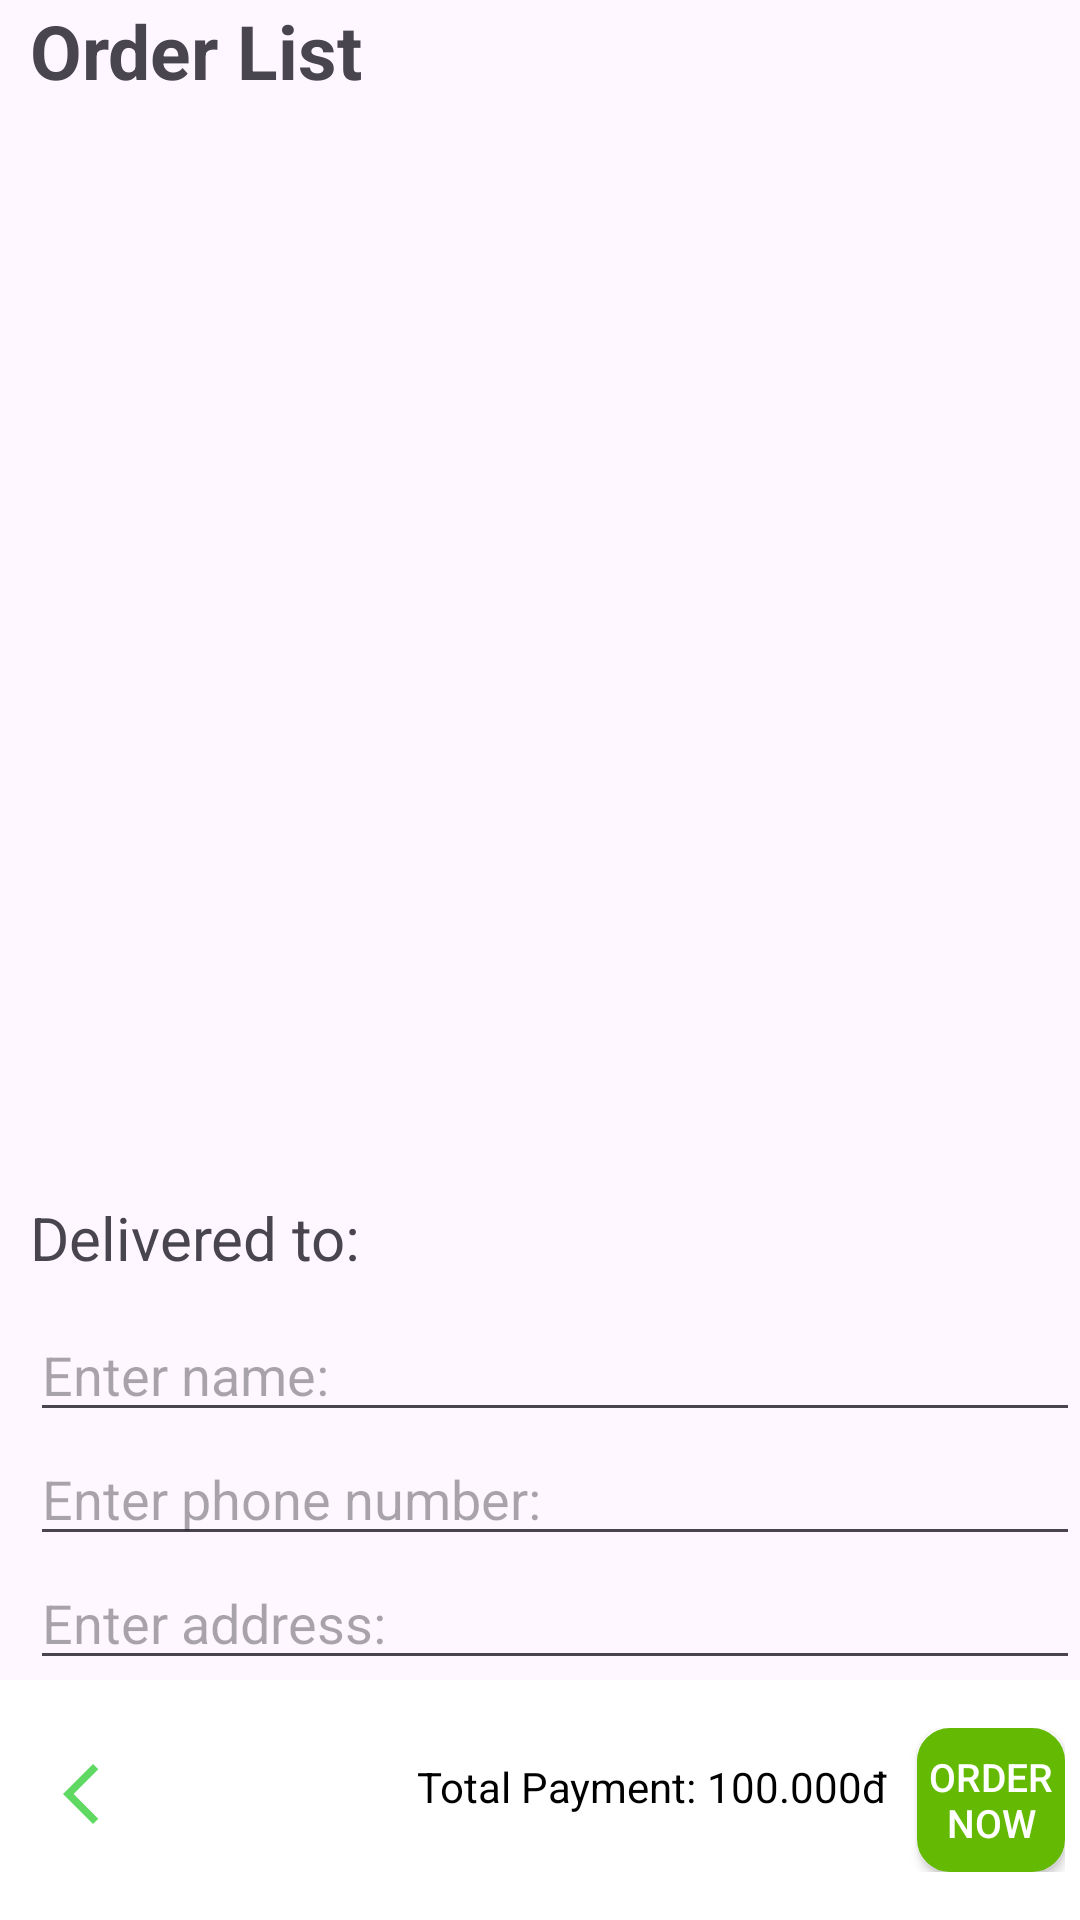

Where to tap for icons on this 1080px×1920px app screen, as (x=x, y=y):
back: (x=80, y=1794)
